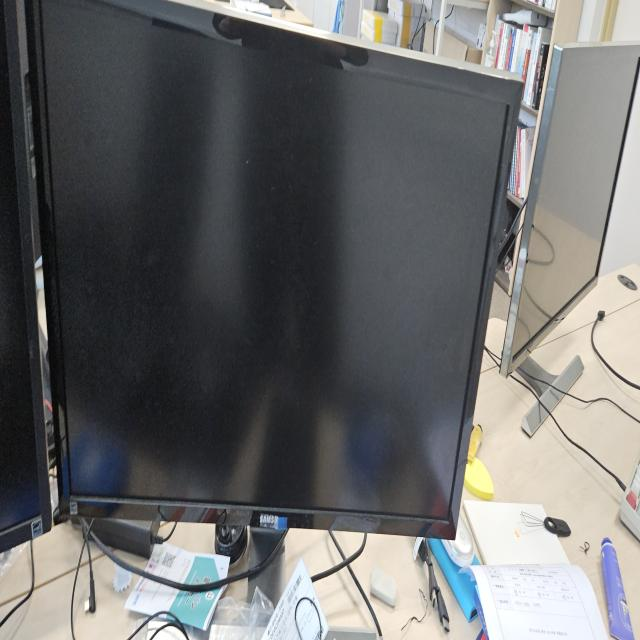Monitor: (22, 2, 525, 558)
